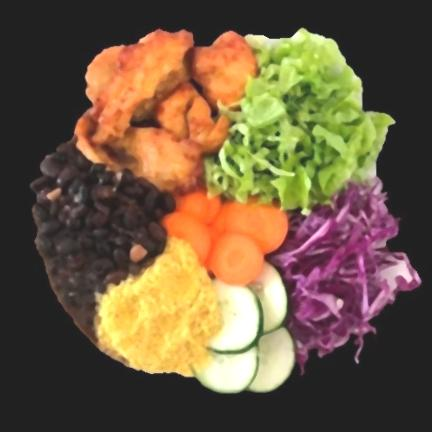beans: (31, 141, 174, 341)
carrot: (162, 190, 288, 284)
chicken: (76, 30, 258, 192)
cucumber: (191, 262, 294, 393)
salad: (205, 30, 394, 211)
